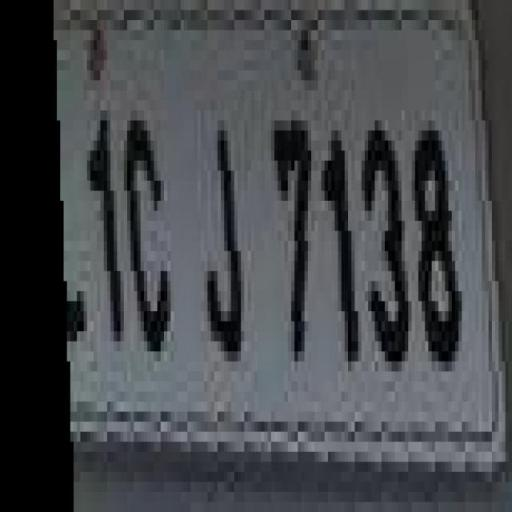number plate: (23, 20, 512, 462)
